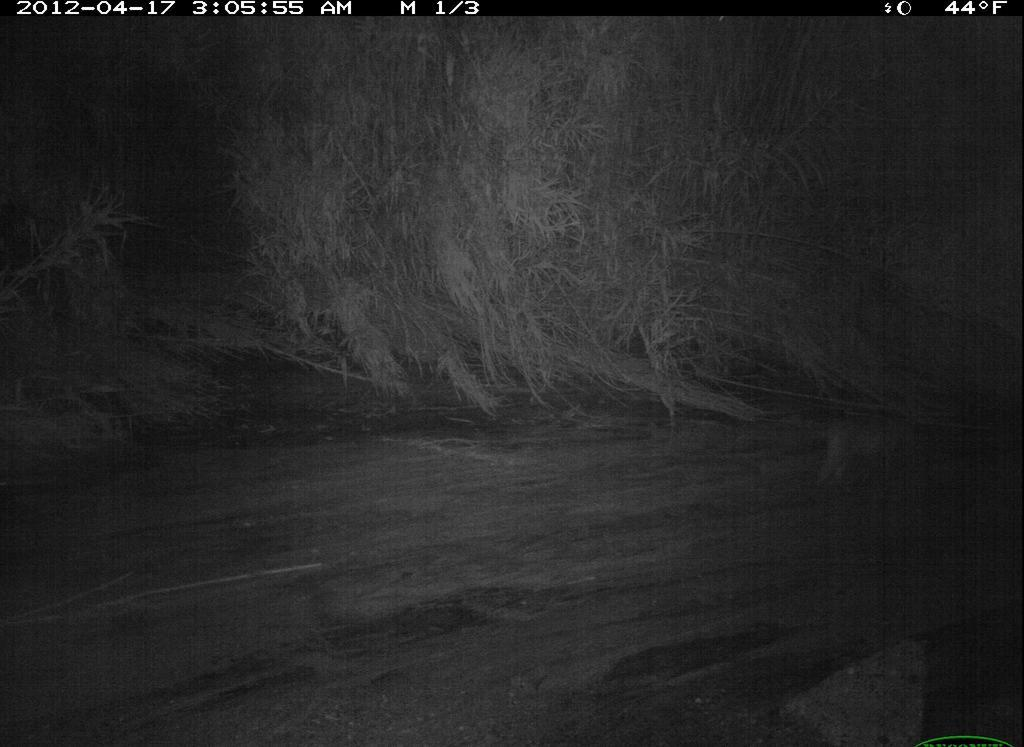bobcat: (808, 399, 929, 503)
